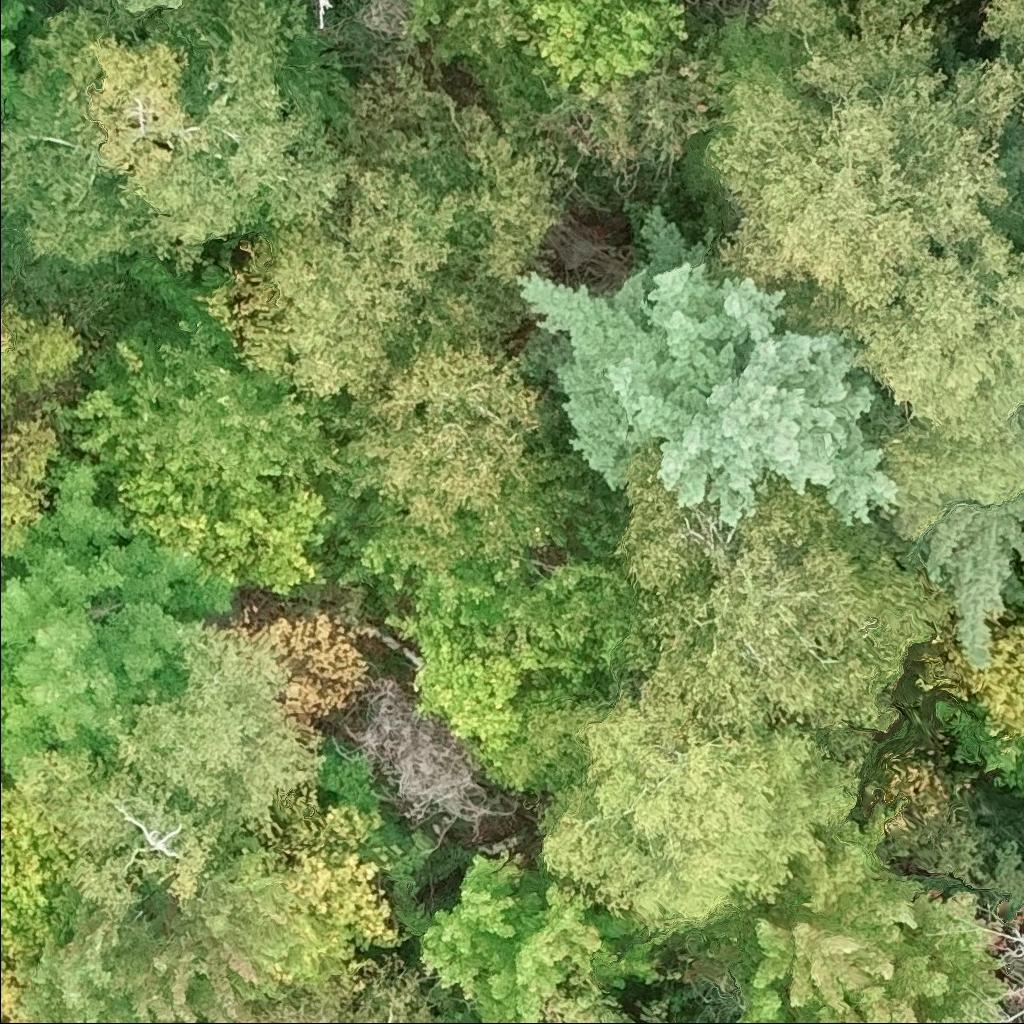crown: (508, 183, 901, 531), (0, 0, 366, 319), (698, 0, 1023, 334), (612, 439, 954, 738), (530, 674, 879, 949), (44, 312, 339, 599), (0, 459, 235, 790), (705, 805, 1015, 1023), (18, 836, 358, 1023), (225, 163, 465, 402), (844, 224, 1023, 536), (99, 626, 331, 850), (339, 324, 564, 545), (396, 88, 580, 338), (417, 847, 666, 1023), (15, 752, 224, 916), (330, 677, 512, 845), (268, 788, 409, 953), (0, 301, 85, 573), (384, 609, 542, 752), (906, 486, 1023, 674), (460, 687, 614, 796), (205, 953, 431, 1023), (522, 0, 692, 93), (0, 779, 71, 967), (401, 0, 539, 65), (0, 0, 50, 122), (974, 0, 1023, 95), (0, 955, 39, 1023), (674, 993, 735, 1023), (120, 0, 189, 18), (926, 1013, 965, 1023), (619, 1015, 636, 1023), (924, 0, 947, 3), (1022, 111, 1023, 123)
